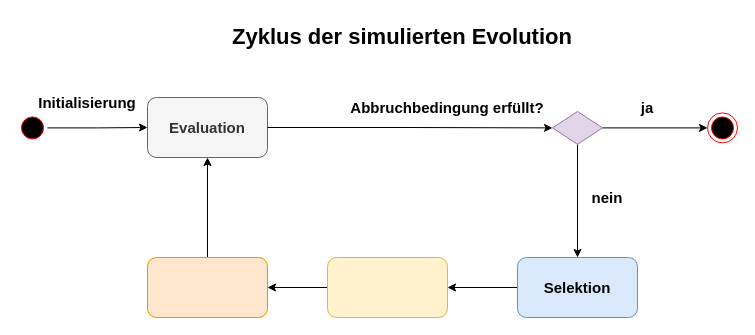
This 755x335 diagram has some shape labels left out. Here are the shapes that lost their labels. From the top down, the centre of each, then its label:
the point at 207,287: Mutation
the point at 387,287: Rekombination
